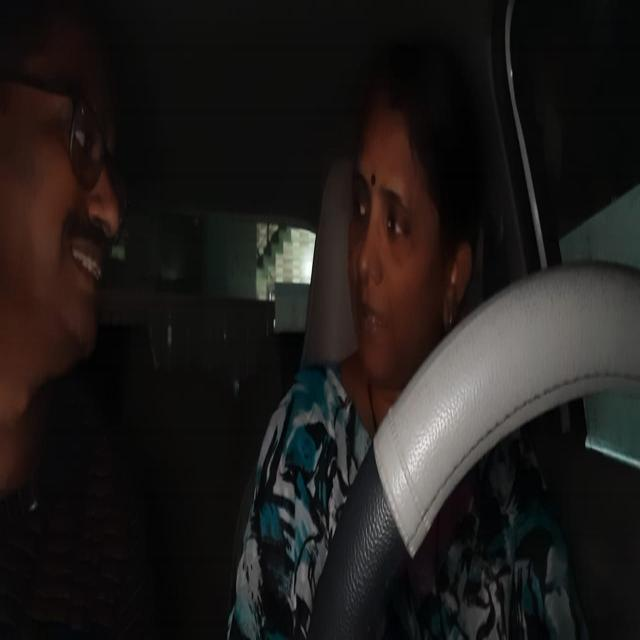LeftRight: (344, 53, 484, 379)
person: (1, 6, 128, 390)
talking: (68, 225, 117, 302), (355, 296, 392, 352)
